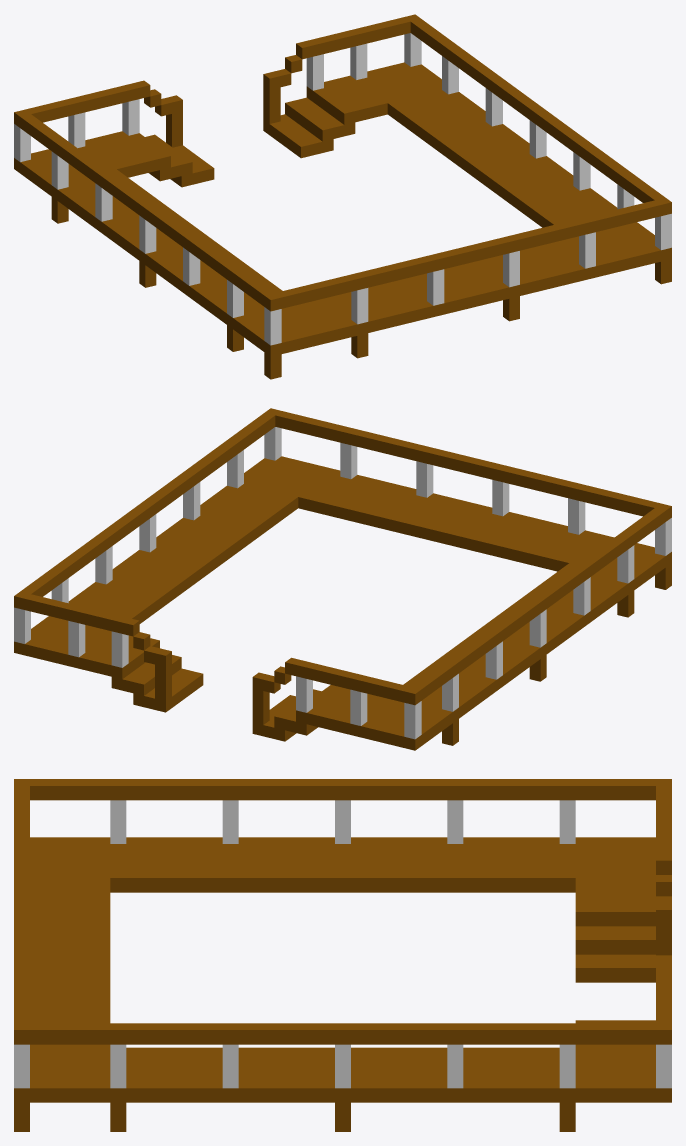
The model's file is plot-1.obj.
3 views of the same model, one above another, from view 1: azimuth 30°, elevation 25°; view 2: azimuth 150°, elevation 25°; view 3: azimuth 270°, elevation 25° (orthographic). The views are drawn at different scales.
Size of the model in its own units: 3.7 by 0.7 by 4.1.
Materials: 1 (1 with a texture image).
